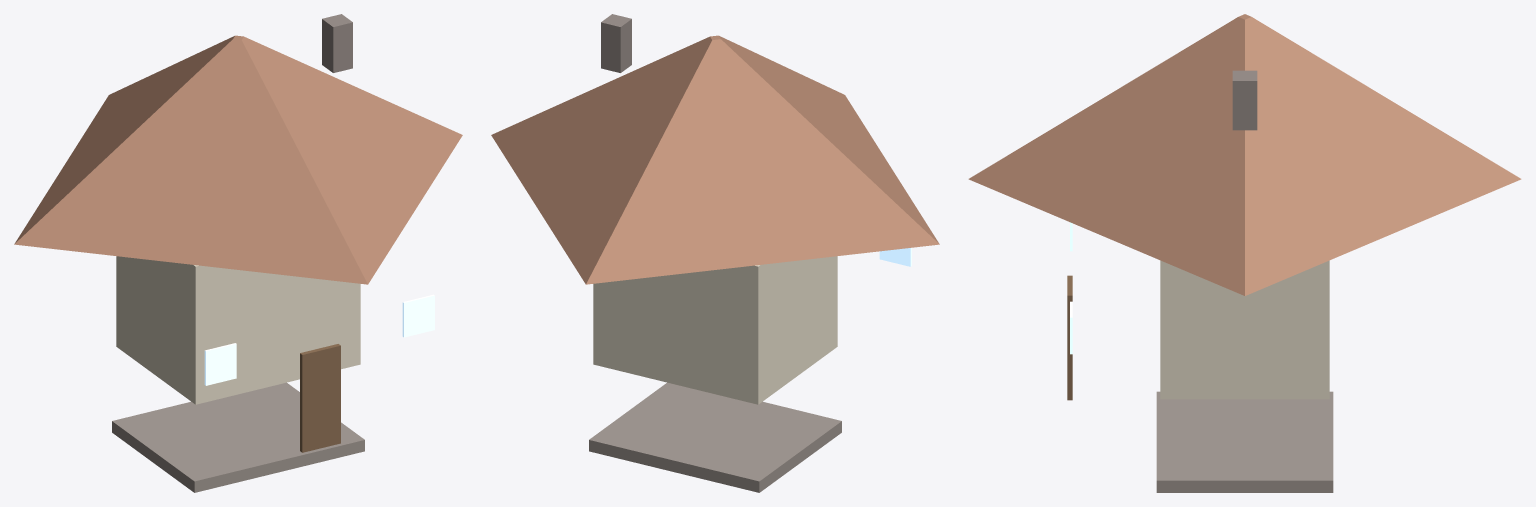
Rendered from VillageCottageC.fbx.
3 views of the same model, side by side, from view 1: azimuth 30°, elevation 25°; view 2: azimuth 150°, elevation 25°; view 3: azimuth 270°, elevation 25° (orthographic). The views are drawn at different scales.
Parts seen in each view (by area): view 1: VillageCottageC; view 2: VillageCottageC; view 3: VillageCottageC.
Boxes of the visible parts, bbox=[...] form: VillageCottageC: bbox=[14, 14, 462, 492]; VillageCottageC: bbox=[491, 14, 939, 492]; VillageCottageC: bbox=[968, 14, 1521, 492].
Size of the model in its own units: 408 by 351 by 408.
